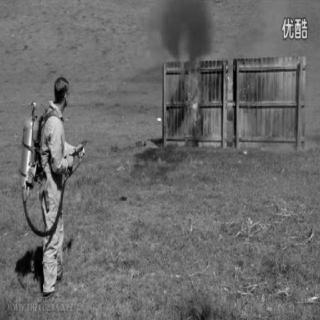Fire: (163, 57, 221, 127)
Smoke: (165, 6, 212, 52)
